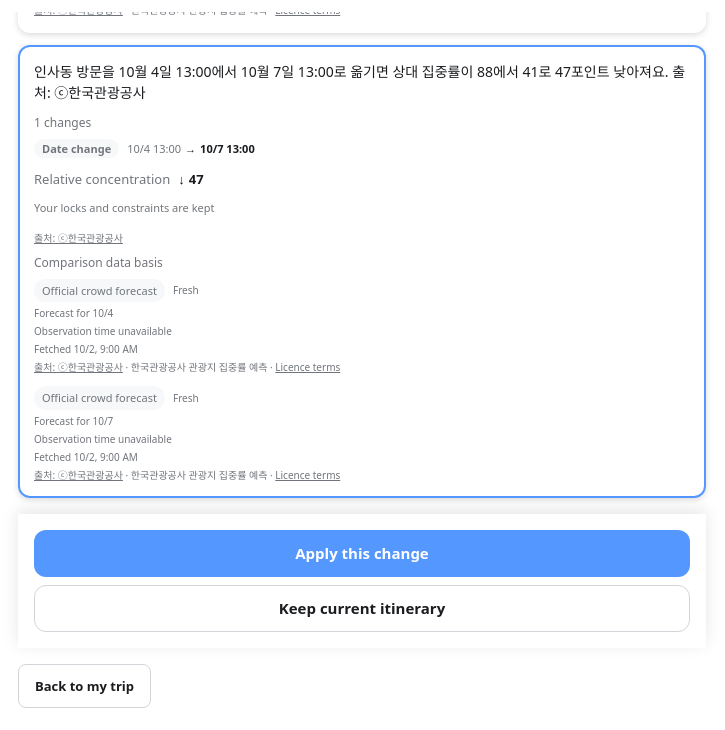
Scenario: FE-505 the run settles into what was decided › reports the applied decision after the trip cache is invalidated
This screenshot has width=725, height=730.
(page scrolled)
Note: The default handler walks QUEUED → RUNNING → READY as it is polled.
Click the button "Apply this change" at (362, 553), box [34,530,690,577]
(page scrolled)
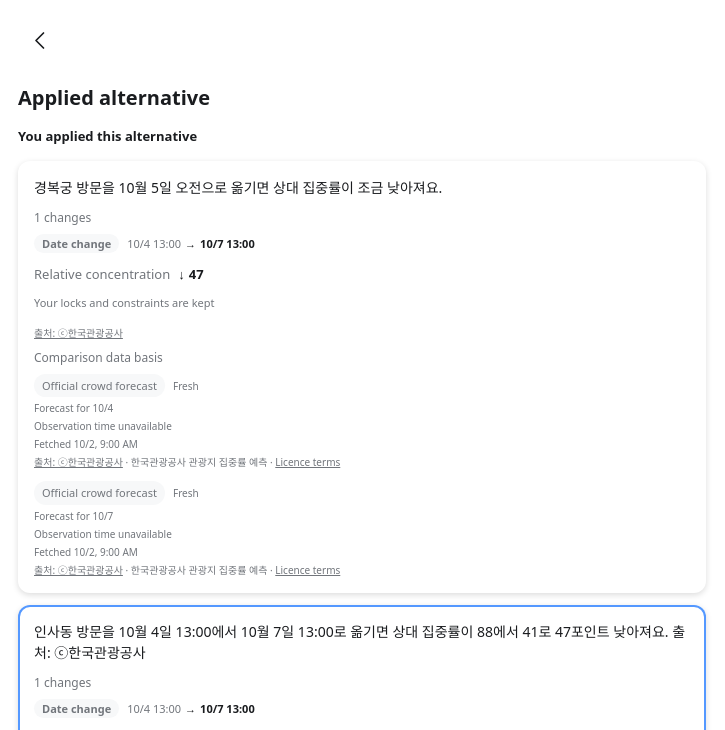
Check: the text "You applied this alternative" is shown, box [18,127,197,145]
Check: the button "Apply this change" is gone
